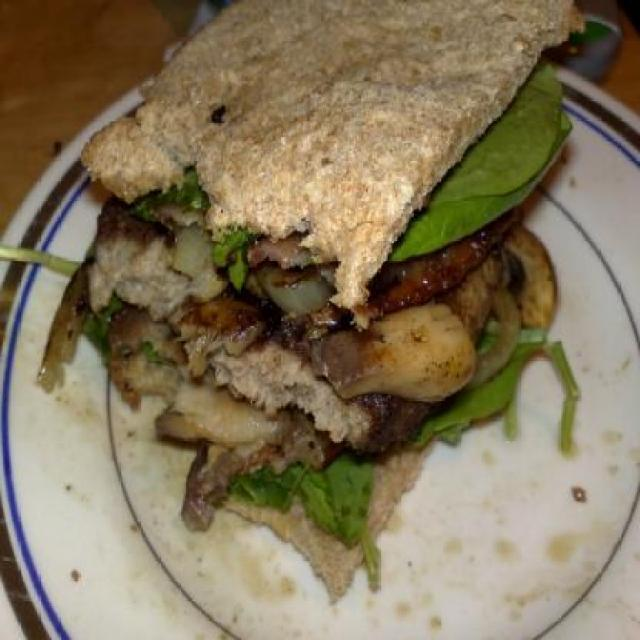Sandwich: (71, 0, 588, 602)
